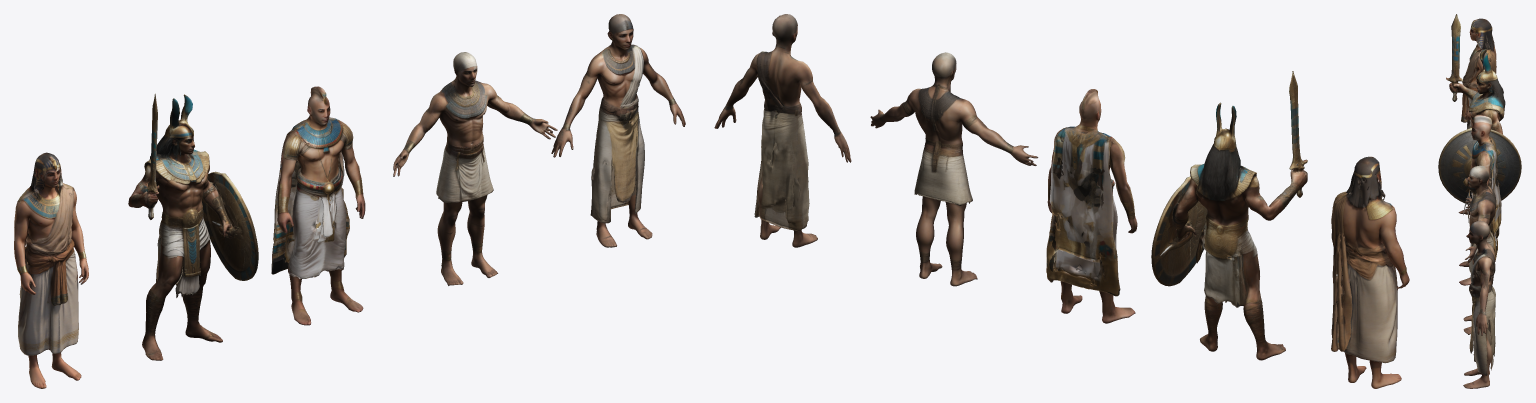
File: egyptian_people.glb
The picture shows the model from 3 angles, left to right: view 1: azimuth 30°, elevation 25°; view 2: azimuth 150°, elevation 25°; view 3: azimuth 270°, elevation 25°; orthographic projection. The views are drawn at different scales.
Visible parts, largest first — view 1: Warrior, Commander, King, Resident, Slave; view 2: Warrior, Commander, King, Resident, Slave; view 3: Warrior, Resident, Commander, Slave, King.
Part boxes in pixels (x1,y1,x2,y2): Warrior: (128, 93, 258, 360); Commander: (271, 86, 365, 325); King: (14, 152, 88, 388); Resident: (551, 14, 685, 247); Slave: (393, 52, 557, 285); Warrior: (1151, 71, 1307, 360); Commander: (1046, 89, 1137, 323); King: (1331, 156, 1409, 388); Resident: (714, 14, 851, 247); Slave: (870, 52, 1038, 286); Warrior: (1438, 14, 1521, 237); Resident: (1463, 220, 1495, 388); Commander: (1459, 114, 1501, 285); Slave: (1463, 165, 1496, 334); King: (1461, 18, 1496, 129).
Bounding box in the file's own units: 6.37 × 2.48 × 0.9444.
Materials: 5 (5 with a texture image).
